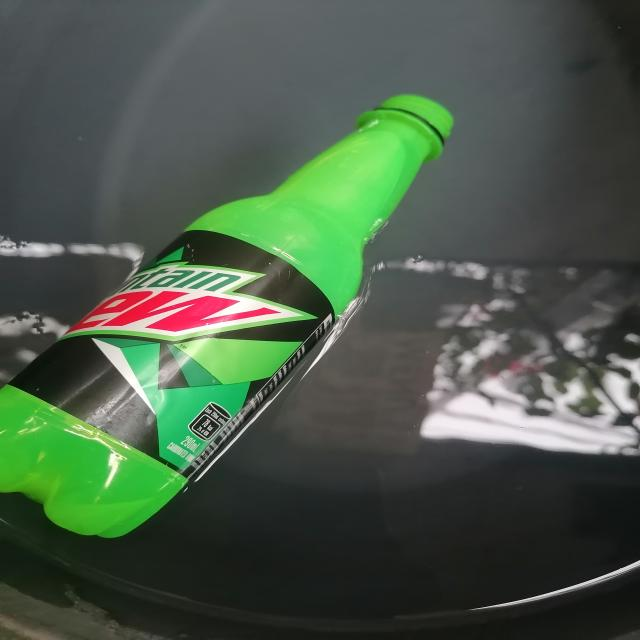Plastic Bottle: (0, 95, 453, 538)
